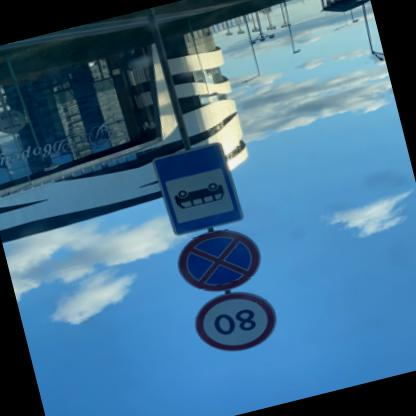speedlimit: (190, 285, 284, 361)
